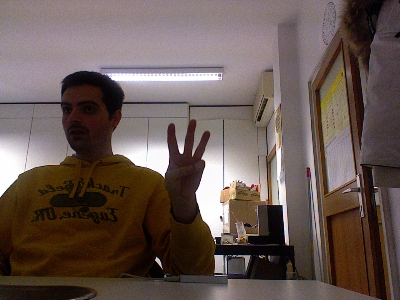三分: (163, 118, 210, 198)
